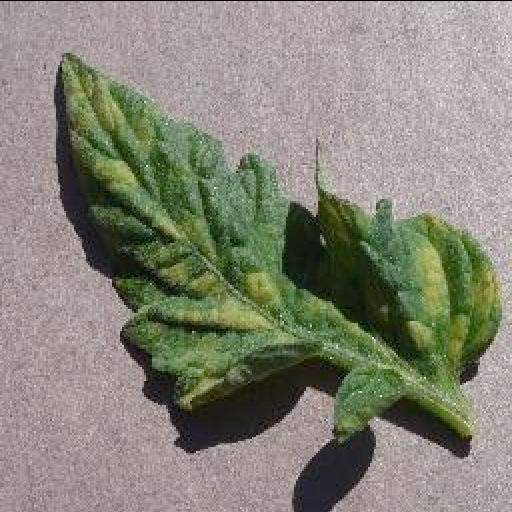disease_tomato: (59, 50, 501, 442)
